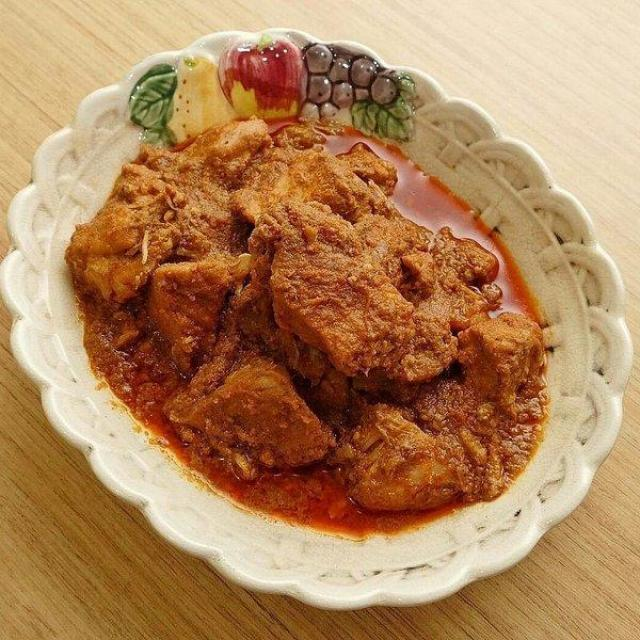Rendang: (92, 127, 552, 517)
